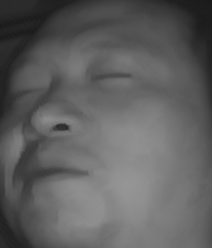blink: (86, 62, 130, 90), (8, 79, 45, 104)
mouth: (10, 147, 90, 197)
